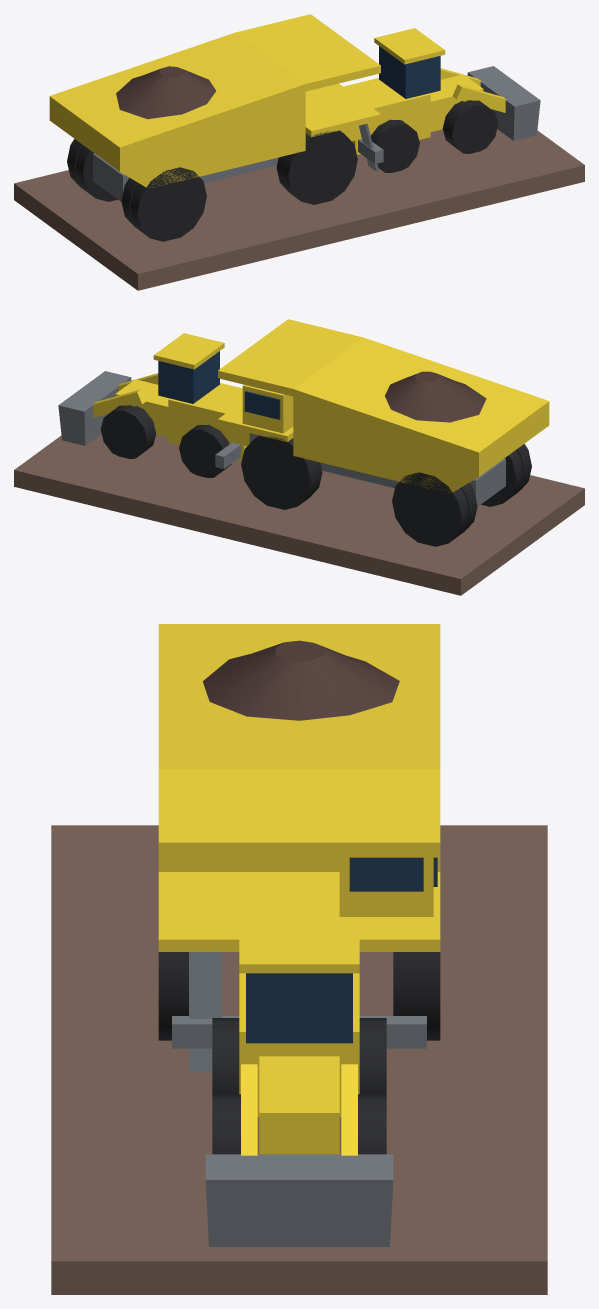
Rendered from mashup-machinery-mid-prebuilt.fbx.
The picture shows the model from 3 angles, top to bottom: view 1: azimuth 30°, elevation 25°; view 2: azimuth 150°, elevation 25°; view 3: azimuth 270°, elevation 25°; orthographic projection. The views are drawn at different scales.
Visible parts, largest first — view 1: a1022.Machinery; view 2: a1022.Machinery; view 3: a1022.Machinery.
Part boxes in pixels (x1,y1,x2,y2): a1022.Machinery: (14,14,584,290); a1022.Machinery: (14,319,584,595); a1022.Machinery: (51,624,547,1294).
Size of the model in its own units: 15.4 by 4.95 by 7.4.
